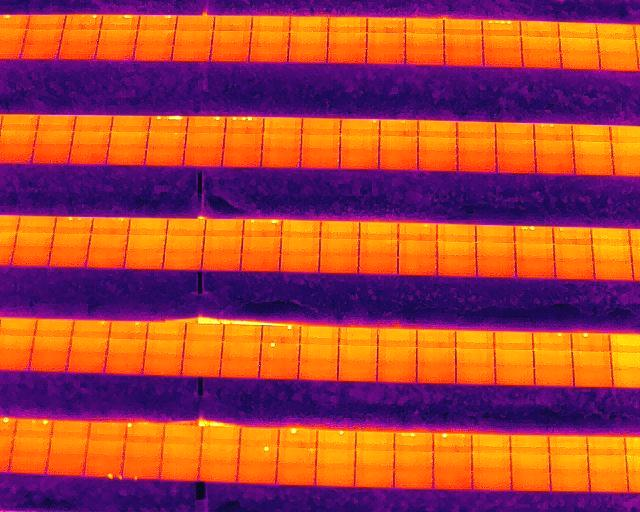Cell: (123, 455, 161, 479), (238, 444, 278, 464), (261, 342, 299, 361), (571, 334, 610, 351), (534, 333, 571, 350), (92, 217, 129, 234), (341, 120, 379, 136), (262, 326, 300, 342), (126, 423, 165, 438), (187, 116, 225, 131), (138, 15, 176, 30), (279, 429, 317, 444), (433, 433, 471, 447), (317, 429, 355, 443), (101, 15, 138, 29), (65, 15, 101, 29)
Cell-Multi: (84, 455, 122, 477), (515, 226, 553, 244), (243, 219, 281, 236), (55, 217, 92, 234), (16, 420, 53, 437), (394, 431, 433, 447), (534, 124, 572, 140), (225, 117, 262, 133), (483, 21, 520, 35)
No-Anomaly: (354, 465, 394, 489), (394, 467, 433, 491), (354, 445, 394, 468), (160, 456, 199, 479), (316, 464, 355, 486), (199, 459, 239, 480), (30, 144, 71, 164), (433, 468, 472, 489), (472, 452, 511, 473), (588, 454, 627, 475), (589, 473, 629, 493), (46, 455, 86, 475), (67, 144, 107, 164), (550, 454, 589, 474), (587, 436, 626, 456), (433, 448, 473, 467), (394, 447, 434, 466), (438, 257, 477, 276), (316, 445, 355, 464), (278, 444, 317, 463), (301, 150, 340, 169), (510, 436, 549, 455), (105, 355, 144, 374), (534, 368, 573, 387), (200, 439, 239, 458), (68, 354, 105, 374), (515, 260, 556, 278), (161, 439, 202, 457), (472, 472, 510, 491), (511, 455, 549, 474), (10, 454, 48, 473), (549, 435, 587, 454), (554, 244, 594, 262), (239, 464, 279, 482), (298, 345, 338, 363), (220, 359, 260, 377), (260, 361, 300, 379), (279, 464, 316, 483), (186, 324, 225, 342), (49, 250, 88, 268), (242, 236, 281, 254), (359, 255, 398, 273), (478, 259, 517, 277), (512, 473, 551, 491), (203, 236, 242, 254), (417, 331, 456, 349), (533, 351, 572, 369), (497, 156, 536, 174), (418, 154, 457, 172), (495, 366, 534, 384), (379, 137, 418, 155), (10, 248, 51, 265), (126, 235, 167, 252), (224, 324, 262, 342), (164, 252, 202, 270), (593, 245, 631, 263), (551, 473, 589, 491), (339, 346, 377, 364), (184, 342, 222, 360), (339, 328, 377, 346), (575, 156, 613, 174), (30, 353, 68, 371), (574, 368, 610, 387), (222, 149, 260, 167), (52, 420, 90, 438), (472, 434, 510, 452), (340, 136, 378, 154), (398, 240, 438, 257), (554, 263, 594, 280), (320, 255, 360, 272), (281, 238, 321, 255), (183, 149, 223, 166), (106, 147, 146, 164), (147, 323, 184, 341), (111, 322, 148, 340), (457, 366, 494, 384), (378, 330, 417, 347), (515, 244, 554, 261), (74, 116, 113, 133), (222, 342, 261, 359), (457, 157, 496, 174), (417, 366, 456, 383), (299, 362, 338, 379), (145, 148, 184, 165), (50, 438, 89, 455), (495, 123, 534, 140), (560, 52, 601, 68), (14, 232, 55, 248), (88, 251, 126, 268), (72, 321, 110, 338), (202, 254, 240, 271), (378, 348, 416, 365), (111, 116, 149, 133), (457, 332, 495, 349), (301, 327, 339, 344), (536, 156, 574, 173), (360, 222, 398, 239), (182, 359, 220, 376), (144, 357, 182, 374), (378, 366, 416, 383), (282, 221, 320, 238), (186, 131, 224, 148), (457, 140, 495, 157), (321, 221, 359, 238), (241, 255, 281, 271), (124, 252, 164, 268), (249, 47, 289, 63), (599, 52, 639, 68), (522, 52, 562, 68), (86, 439, 126, 455), (261, 150, 301, 166), (592, 228, 629, 245), (406, 18, 445, 34), (399, 258, 438, 274), (438, 241, 477, 257), (495, 349, 534, 365), (106, 340, 145, 356), (70, 338, 109, 354), (594, 264, 633, 280), (475, 226, 514, 242), (418, 122, 457, 138), (23, 29, 62, 45), (418, 138, 457, 154), (124, 438, 163, 454), (379, 120, 418, 136), (36, 321, 72, 338), (281, 255, 319, 271), (145, 341, 183, 357), (135, 46, 173, 62), (96, 44, 134, 60), (456, 350, 494, 366), (437, 224, 475, 240), (129, 218, 167, 234), (205, 219, 243, 235), (398, 223, 436, 239), (554, 227, 592, 243), (457, 123, 495, 139), (13, 438, 51, 454), (165, 235, 203, 251), (147, 132, 185, 148), (573, 351, 610, 367), (33, 338, 70, 354), (173, 45, 210, 61), (89, 234, 126, 250), (89, 422, 126, 438), (367, 48, 406, 63), (359, 240, 398, 255), (476, 243, 515, 258), (289, 47, 328, 62), (484, 51, 523, 66), (417, 349, 456, 364), (320, 239, 359, 254), (263, 120, 302, 135), (495, 333, 534, 348), (367, 33, 406, 48), (328, 32, 367, 47), (224, 134, 263, 149), (338, 365, 377, 380), (340, 155, 379, 170), (483, 36, 522, 51), (444, 35, 483, 50), (240, 428, 279, 443), (109, 132, 148, 147), (262, 135, 301, 150), (71, 132, 110, 147), (496, 141, 535, 156), (166, 220, 205, 235), (53, 234, 89, 250), (444, 20, 482, 35), (597, 24, 635, 39), (559, 22, 597, 37), (302, 119, 340, 134), (211, 46, 249, 61), (328, 48, 366, 63), (58, 45, 96, 60), (521, 22, 559, 37), (290, 32, 328, 47), (252, 16, 290, 31), (290, 17, 328, 32), (137, 30, 175, 45), (378, 155, 416, 170), (357, 431, 395, 446), (521, 36, 559, 51), (535, 141, 573, 156), (17, 216, 55, 231), (444, 51, 484, 65), (37, 116, 74, 131), (62, 29, 99, 44), (212, 31, 251, 45), (164, 426, 203, 440), (368, 18, 406, 32), (329, 18, 367, 32), (98, 30, 136, 44), (252, 32, 290, 46), (214, 16, 252, 30), (406, 35, 444, 49), (573, 141, 611, 155), (301, 135, 339, 149), (202, 427, 240, 441), (573, 126, 611, 140), (407, 49, 444, 63), (177, 16, 214, 30), (27, 15, 64, 29), (560, 38, 599, 51), (34, 131, 73, 144), (22, 46, 58, 60), (598, 39, 636, 52), (175, 31, 213, 44)
Unclassified: (149, 116, 187, 132)
